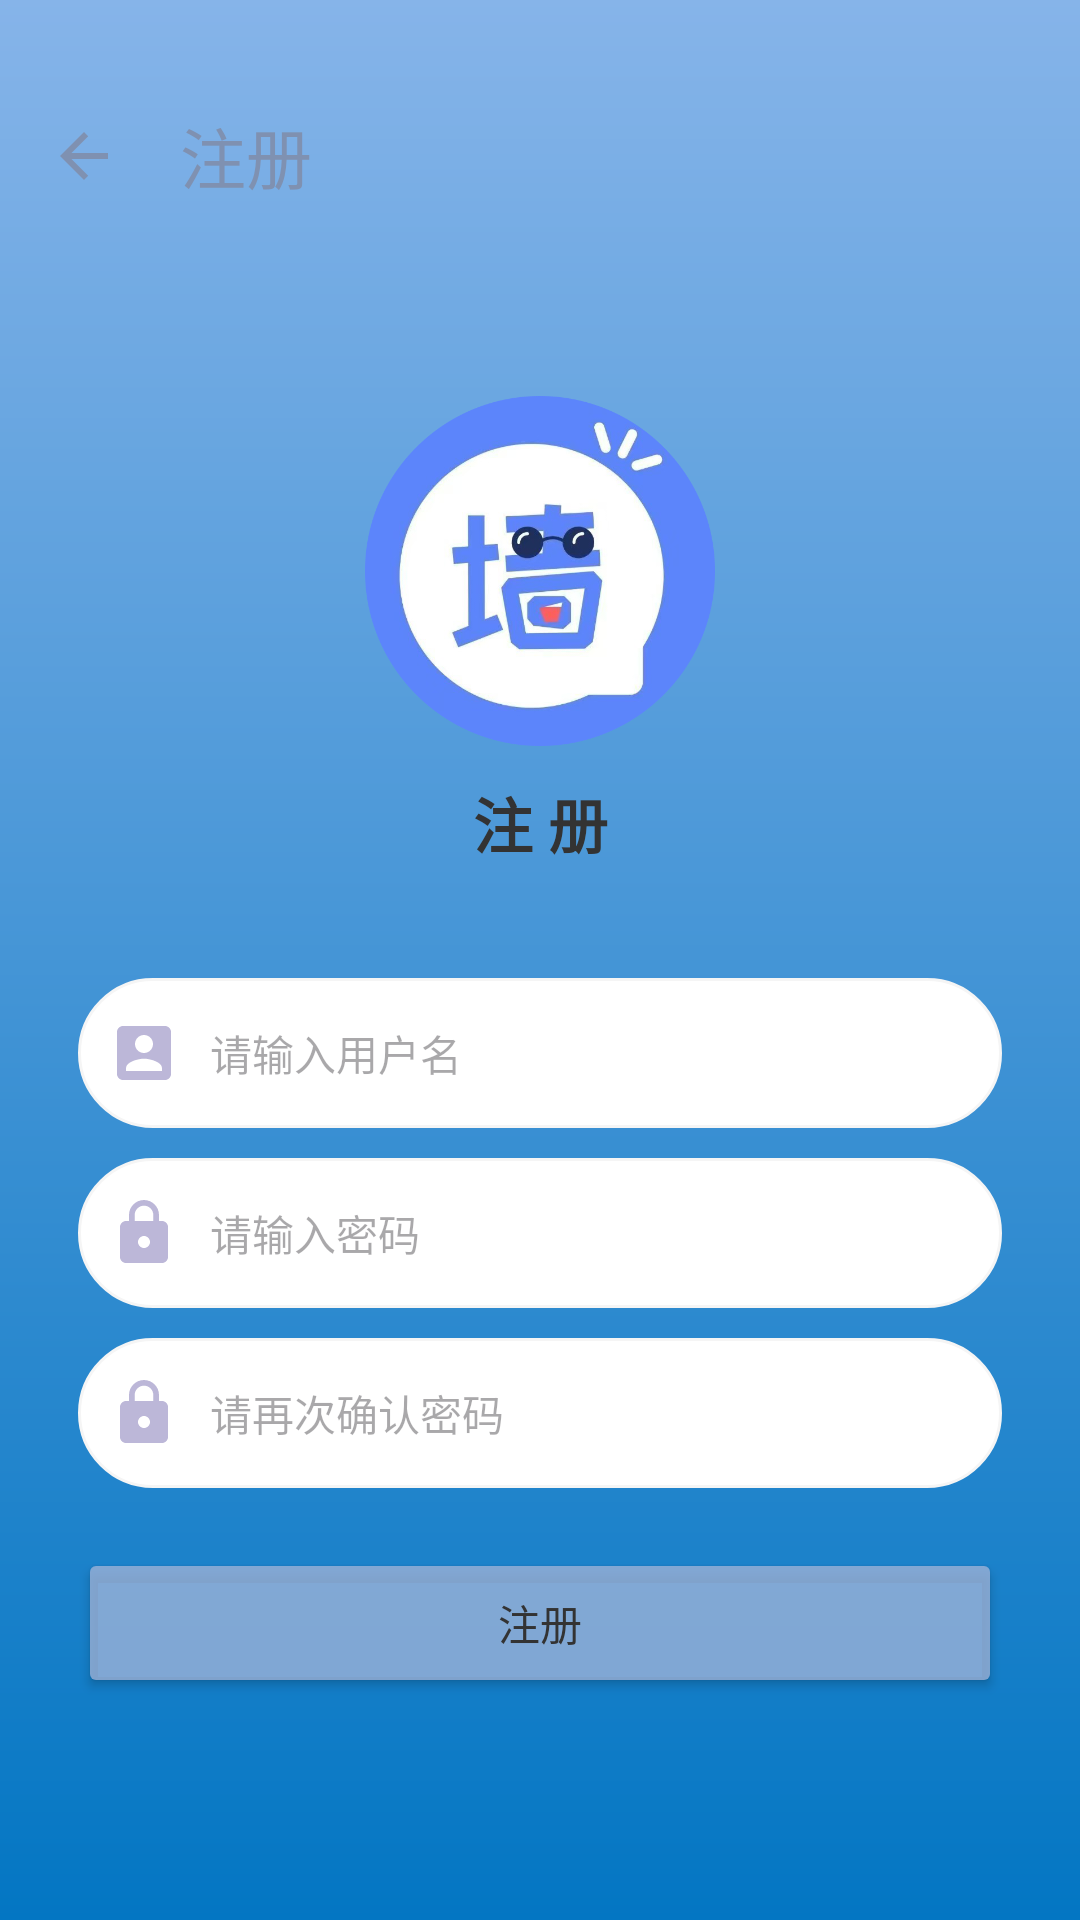

Icons on this 1080w x 1920h Android screen, each with the point to tap as (x=x, y=y):
account box: (x=144, y=1053)
